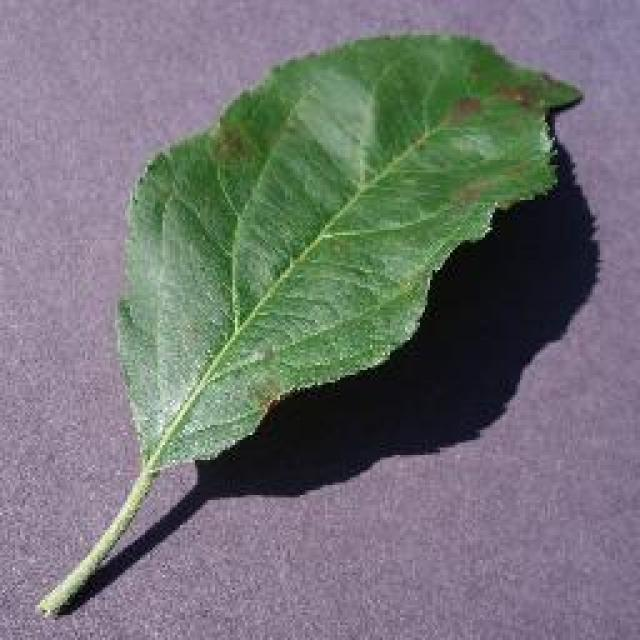apple scab disease: (33, 28, 585, 618)
